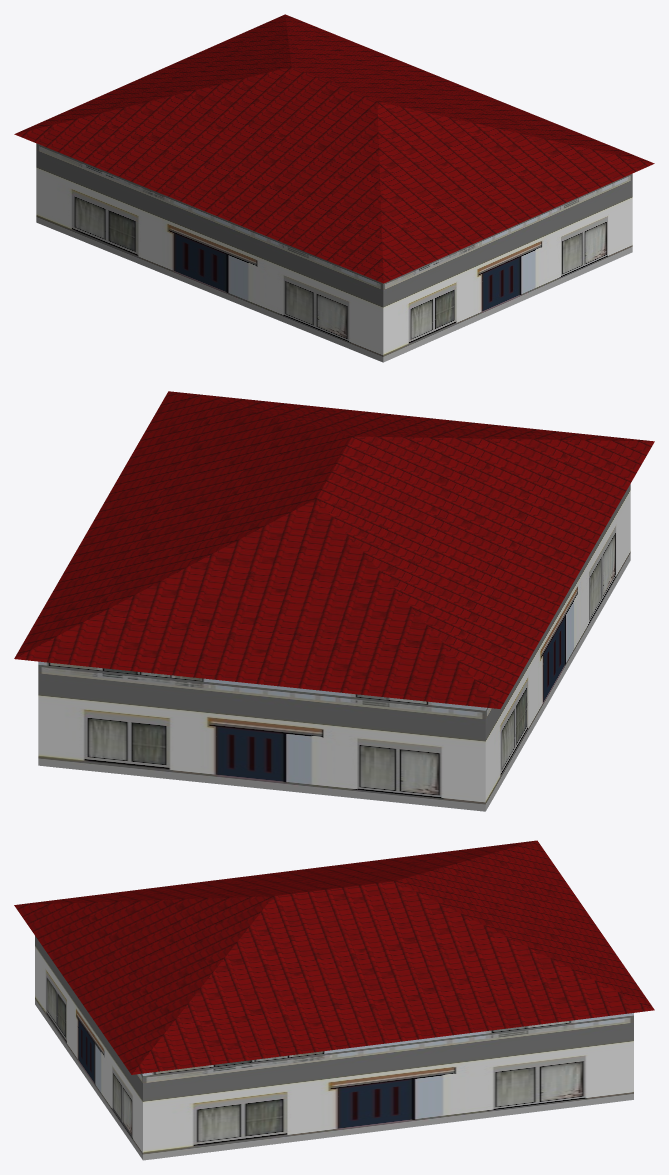
3 views of the same model, one above another, from view 1: azimuth 30°, elevation 25°; view 2: azimuth 150°, elevation 25°; view 3: azimuth 270°, elevation 25° (orthographic). The views are drawn at different scales.
Visible parts, largest first — view 1: CityEngineMaterial_17_m, CityEngineMaterial_7_m; view 2: CityEngineMaterial_17_m, CityEngineMaterial_7_m; view 3: CityEngineMaterial_17_m, CityEngineMaterial_7_m.
Boxes of the visible parts, left/top/right/bottom form: CityEngineMaterial_17_m: left=14, top=14, right=654, bottom=283; CityEngineMaterial_7_m: left=36, top=143, right=632, bottom=362; CityEngineMaterial_17_m: left=14, top=391, right=654, bottom=708; CityEngineMaterial_7_m: left=38, top=484, right=630, bottom=811; CityEngineMaterial_17_m: left=14, top=840, right=654, bottom=1074; CityEngineMaterial_7_m: left=35, top=936, right=633, bottom=1160.
Size of the model in its own units: 30.77 by 10 by 35.54.
